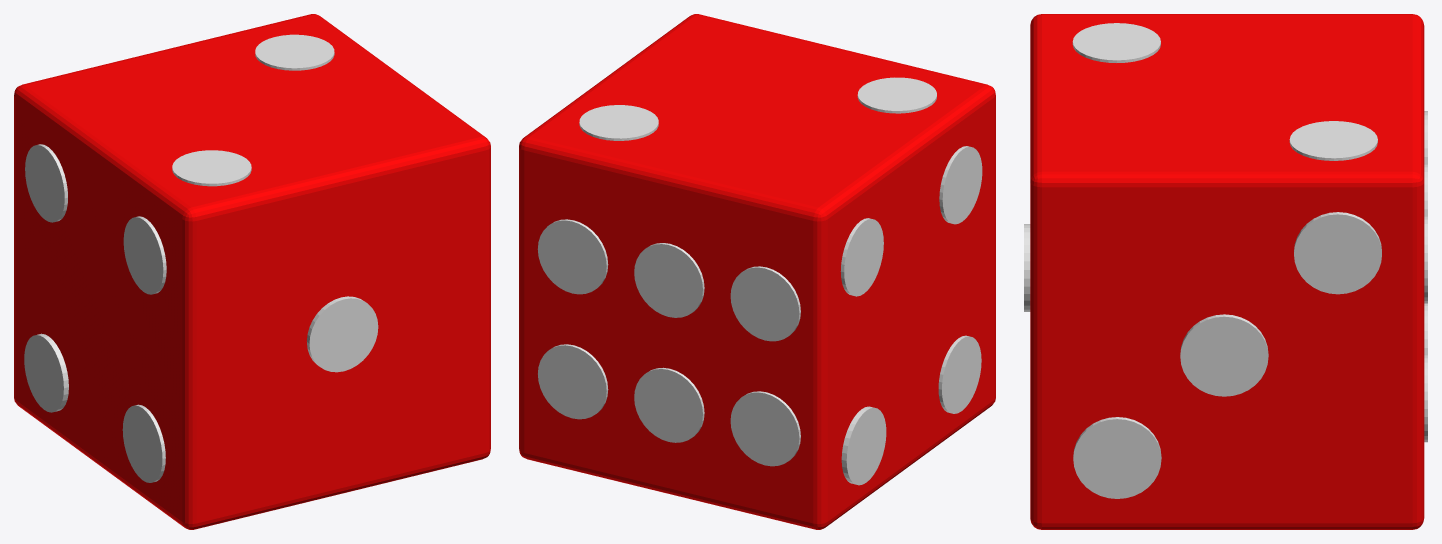
Rendered from DICE_RED_RECAL.fbx.
3 views of the same model, side by side, from view 1: azimuth 30°, elevation 25°; view 2: azimuth 150°, elevation 25°; view 3: azimuth 270°, elevation 25° (orthographic). The views are drawn at different scales.
Parts seen in each view (by area): view 1: Cube.012, Circle.009, Circle.003, Circle.001; view 2: Cube.012, Circle.002, Circle.009, Circle.003; view 3: Cube.012, Circle.011, Circle.003, Circle.002, Circle.001.
Boxes of the visible parts, x1,y1,x2,y2 form: Cube.012: (14, 14, 490, 529); Circle.009: (24, 144, 166, 482); Circle.003: (172, 34, 334, 186); Circle.001: (307, 296, 378, 372); Cube.012: (519, 14, 995, 529); Circle.002: (537, 219, 800, 466); Circle.009: (840, 146, 982, 485); Circle.003: (579, 77, 936, 140); Cube.012: (1030, 14, 1424, 529); Circle.011: (1073, 212, 1381, 498); Circle.003: (1072, 23, 1377, 160); Circle.002: (1424, 111, 1427, 442); Circle.001: (1024, 224, 1030, 311).
Size of the model in its own units: 206 by 204 by 205.
